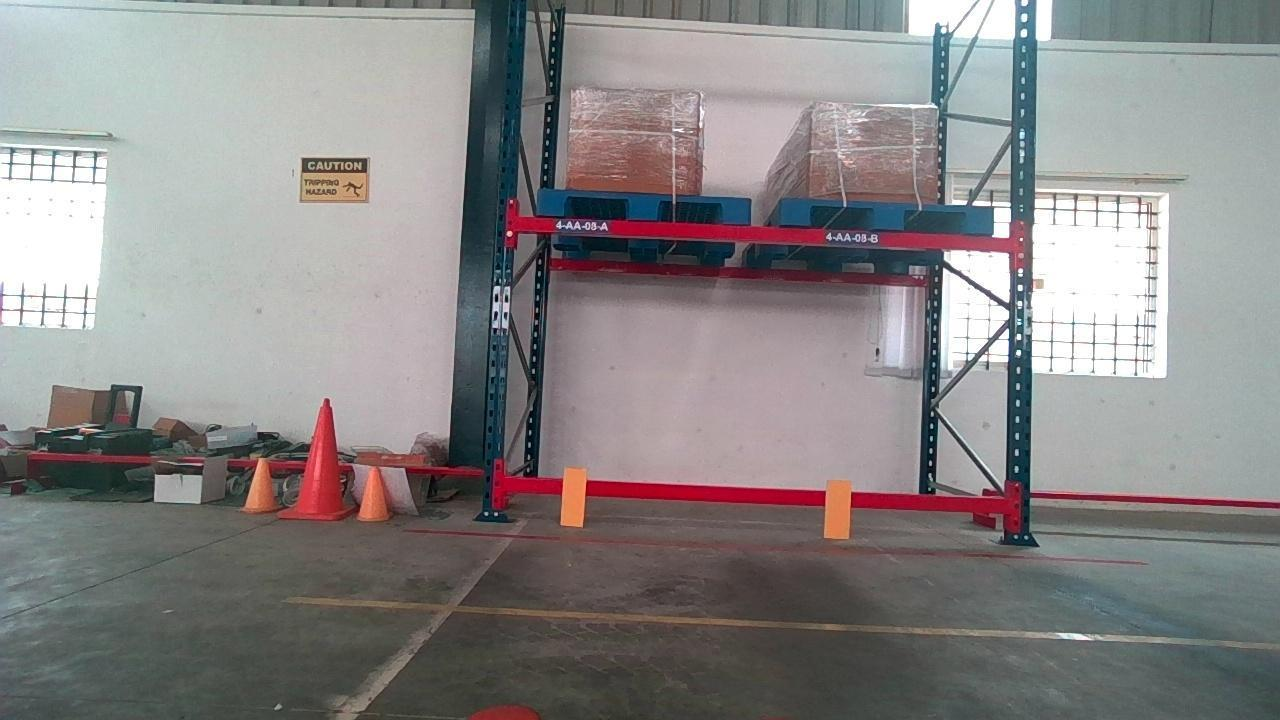h_rack: (516, 215, 1015, 253), (502, 478, 1001, 511)
orange_strip: (823, 479, 851, 537), (560, 466, 587, 524)
small_pallet: (779, 200, 995, 229), (536, 191, 746, 219)
yellow_line: (277, 595, 788, 623), (788, 623, 1280, 649)
